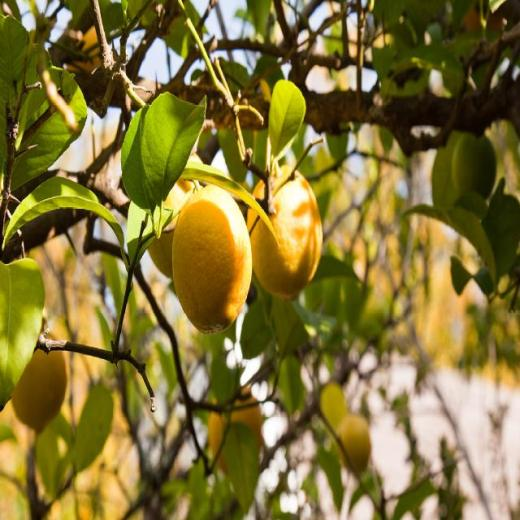Grape: (181, 174, 259, 331), (249, 167, 316, 292), (6, 332, 72, 440)
